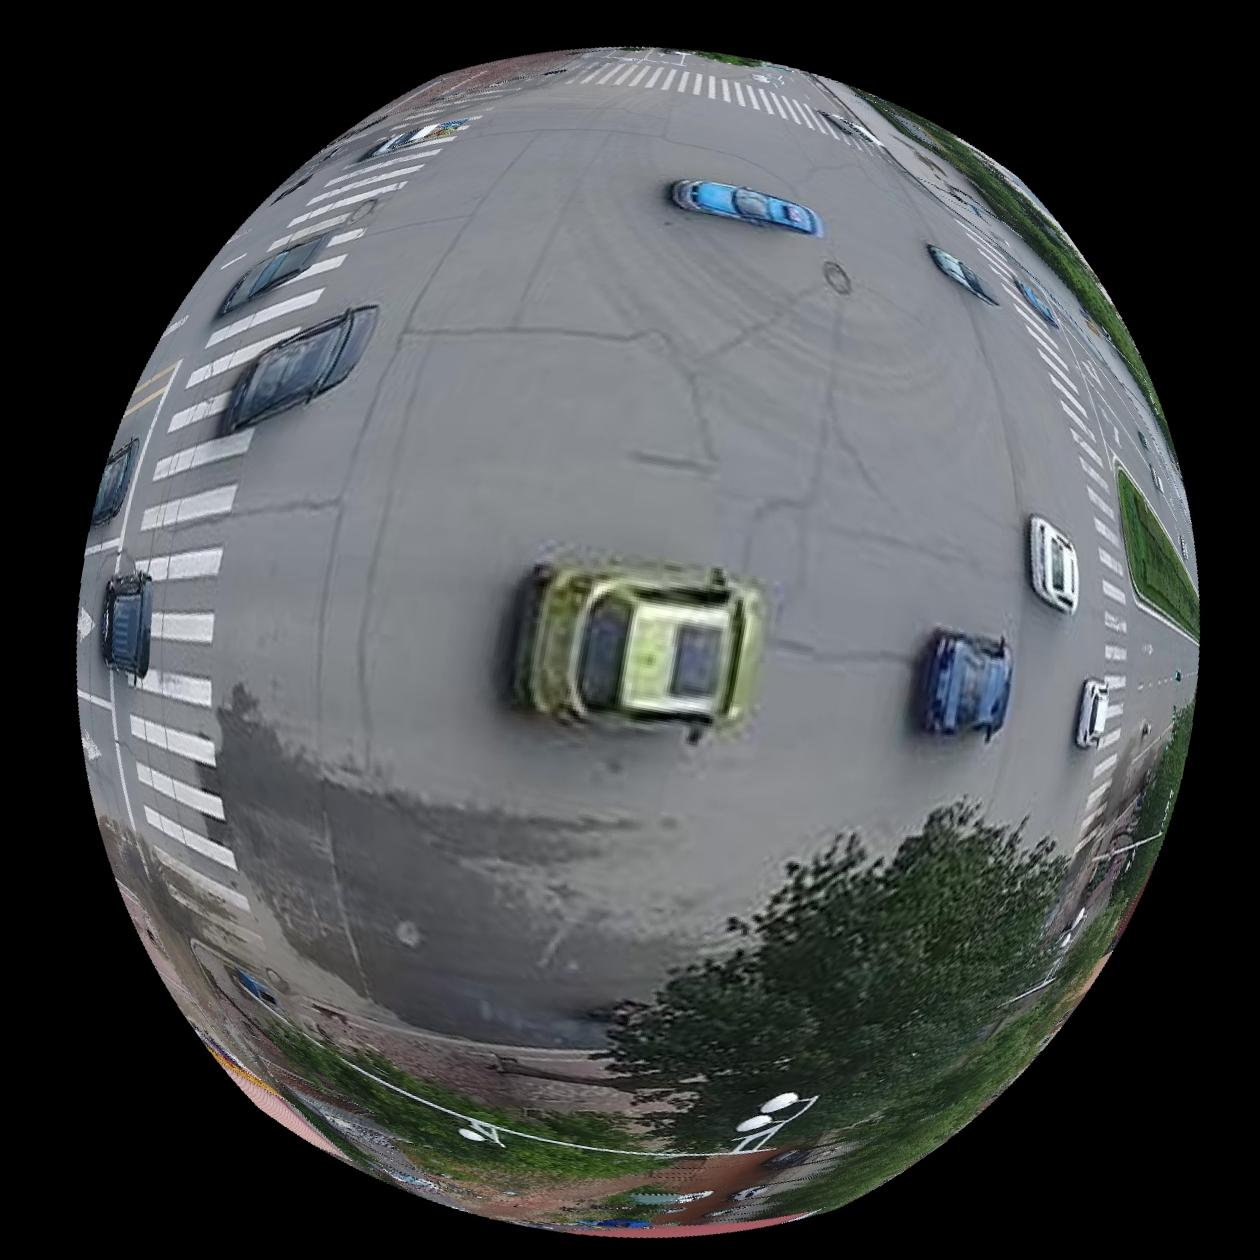cars: (509, 556, 771, 745), (218, 306, 375, 435), (216, 228, 353, 314), (919, 629, 1013, 743), (668, 177, 824, 237), (98, 571, 149, 678), (1029, 515, 1079, 615), (926, 243, 998, 305), (87, 438, 134, 527), (1074, 678, 1111, 750)
trees: (597, 807, 1071, 1225)
